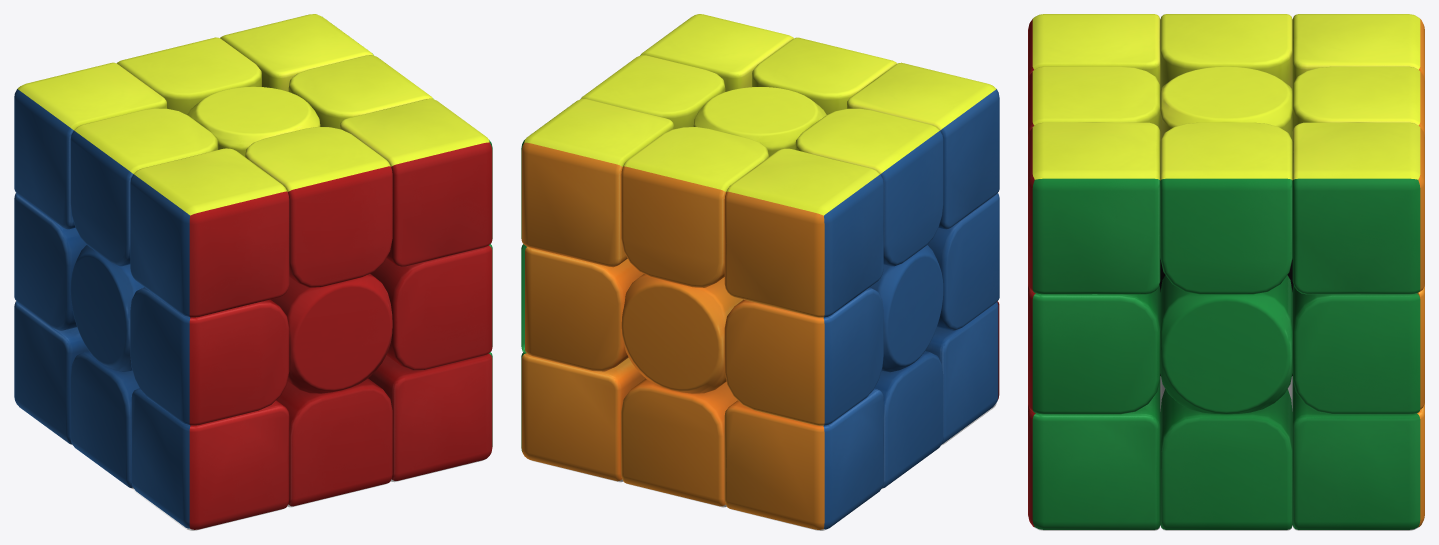
3 views of the same model, side by side, from view 1: azimuth 30°, elevation 25°; view 2: azimuth 150°, elevation 25°; view 3: azimuth 270°, elevation 25° (orthographic). The views are drawn at different scales.
Parts seen in each view (by area): view 1: DLF F, LF F, DF F, F F, ULF F, DRF F, URF F, RF F, UF F, RB R, DR R, DRB R (+15 smaller); view 2: DLB B, DB B, LB B, B B, ULB B, DRB B, URB B, RB B, UB B, RF R, DR R, URB R (+15 smaller); view 3: DL L, L L, DLF L, DLB L, LF L, LB L, ULF L, ULB L, UL L, UR U, ULF U, ULB U (+12 smaller).
Boxes of the visible parts, bbox=[...] form: DLF F: bbox=[368, 353, 492, 480]; LF F: bbox=[370, 245, 492, 370]; DF F: bbox=[276, 378, 392, 506]; F F: bbox=[270, 274, 392, 393]; ULF F: bbox=[386, 142, 492, 266]; DRF F: bbox=[189, 400, 289, 529]; URF F: bbox=[189, 191, 289, 317]; RF F: bbox=[189, 299, 289, 425]; UF F: bbox=[288, 166, 392, 287]; RB R: bbox=[14, 193, 86, 330]; DR R: bbox=[70, 351, 139, 487]; DRB R: bbox=[14, 301, 88, 444]; DLB B: bbox=[521, 353, 645, 481]; DB B: bbox=[621, 378, 737, 506]; LB B: bbox=[525, 247, 643, 371]; B B: bbox=[621, 274, 742, 393]; ULB B: bbox=[521, 142, 627, 267]; DRB B: bbox=[724, 400, 824, 529]; URB B: bbox=[724, 191, 824, 317]; RB B: bbox=[724, 299, 824, 425]; UB B: bbox=[621, 166, 725, 287]; RF R: bbox=[927, 193, 999, 330]; DR R: bbox=[874, 351, 943, 487]; URB R: bbox=[824, 174, 883, 317]; DL L: bbox=[1160, 389, 1292, 529]; L L: bbox=[1160, 275, 1292, 414]; DLF L: bbox=[1032, 379, 1160, 529]; DLB L: bbox=[1292, 379, 1420, 529]; LF L: bbox=[1032, 285, 1160, 414]; LB L: bbox=[1292, 285, 1420, 414]; ULF L: bbox=[1032, 178, 1160, 294]; ULB L: bbox=[1292, 178, 1420, 294]; UL L: bbox=[1160, 178, 1292, 294]; UR U: bbox=[1160, 14, 1292, 90]; ULF U: bbox=[1032, 122, 1160, 180]; ULB U: bbox=[1292, 122, 1420, 180].
Size of the model in its own units: 54.9 by 54.9 by 54.9.
